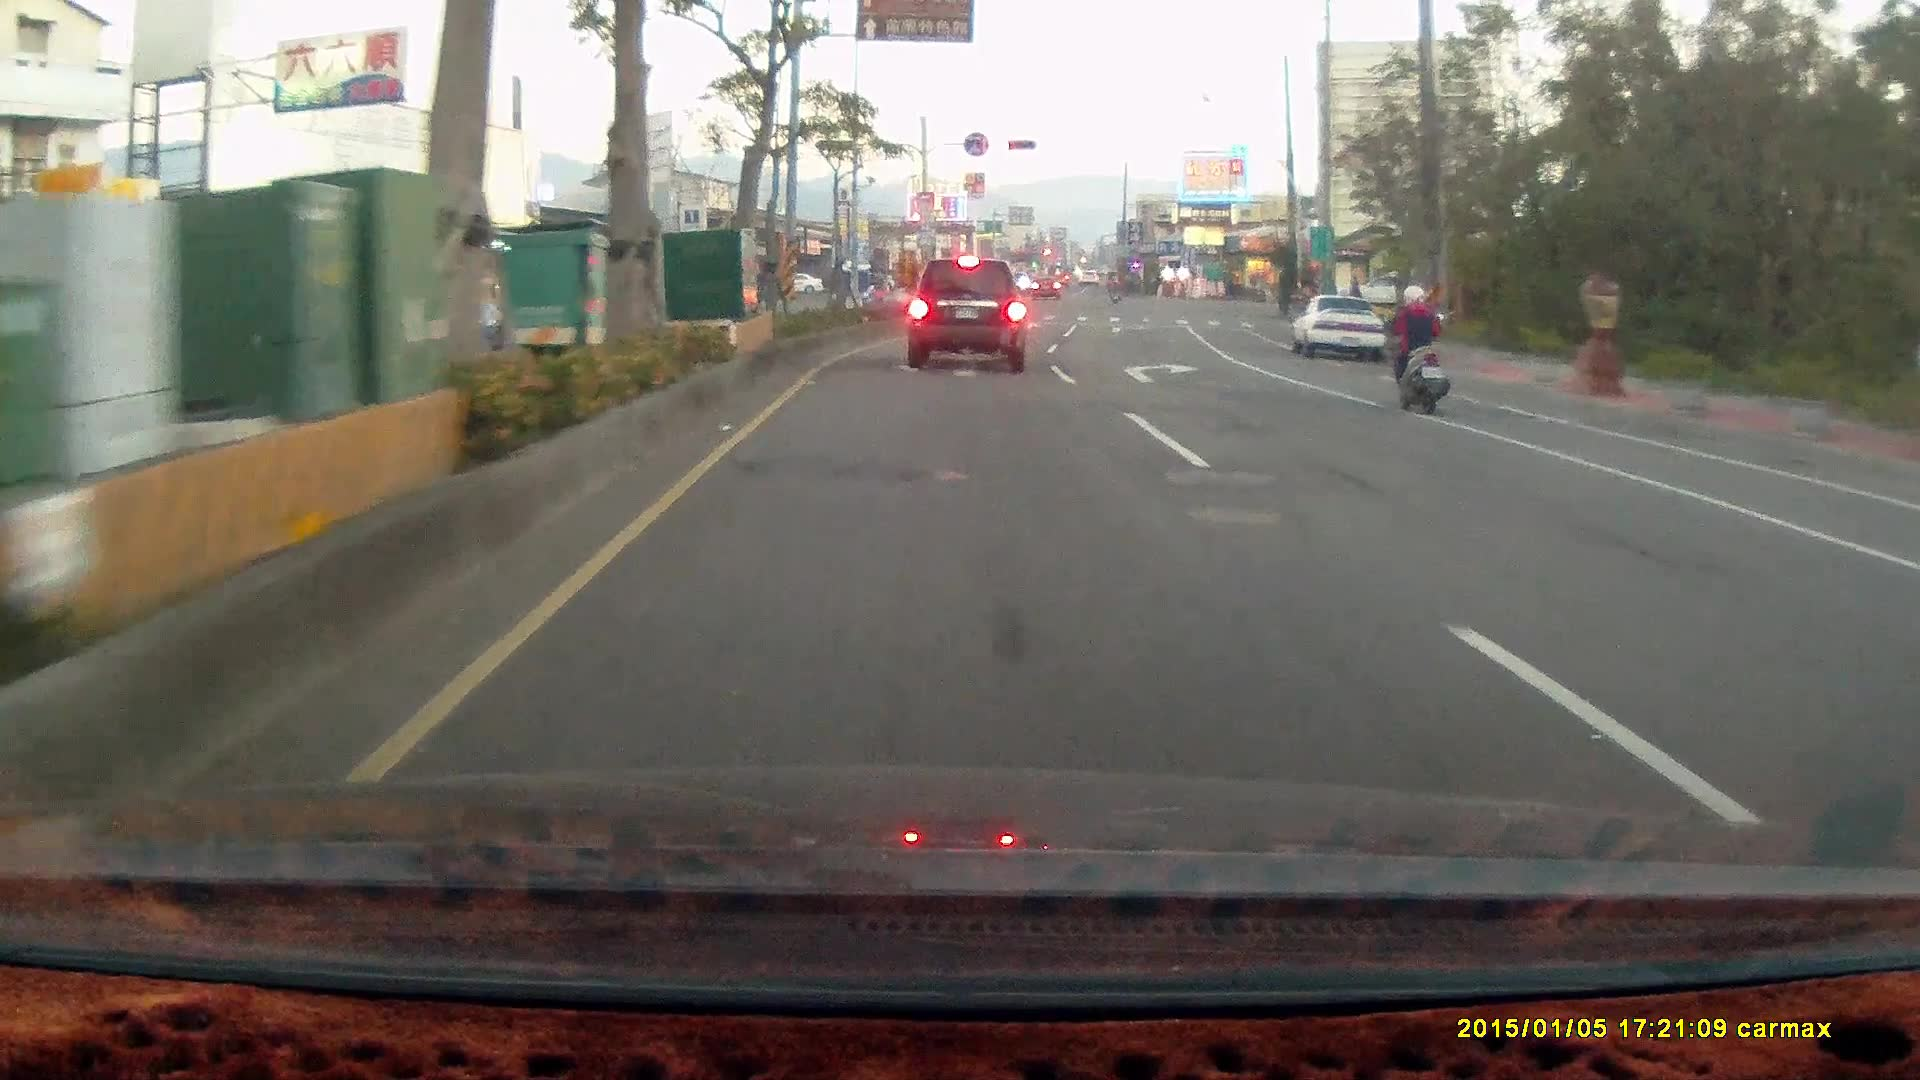rider: (1376, 281, 1451, 416)
vehicle: (905, 257, 1027, 373), (1896, 493, 1920, 836), (1287, 292, 1386, 364), (1293, 294, 1388, 368), (1883, 528, 1920, 690), (1333, 272, 1414, 308)
